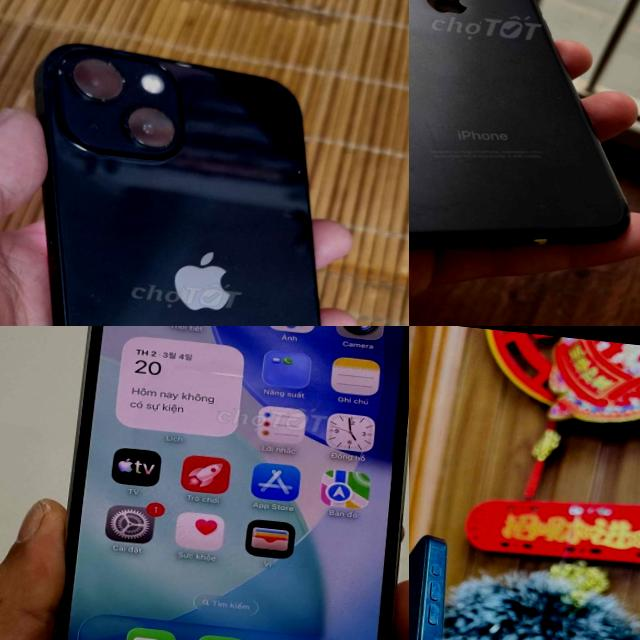gen_12_13: (43, 326, 409, 640), (0, 38, 379, 326)
gen_7_8: (409, 0, 640, 274)
